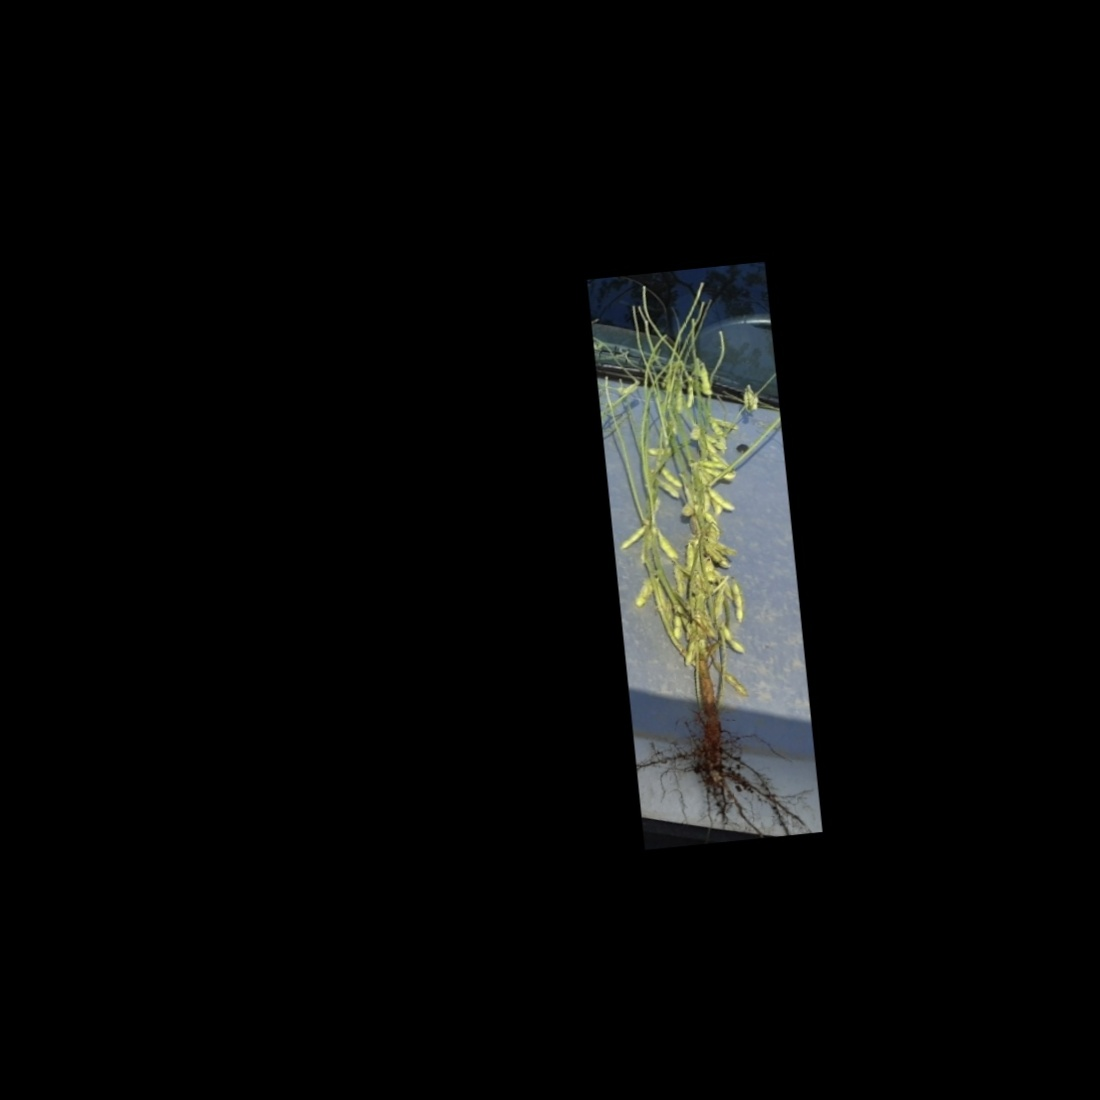pod: (653, 525, 681, 566), (720, 624, 751, 660), (727, 576, 747, 627), (721, 668, 751, 701), (705, 485, 737, 515), (697, 364, 716, 398), (660, 465, 684, 490)
soy: (595, 307, 814, 825)
